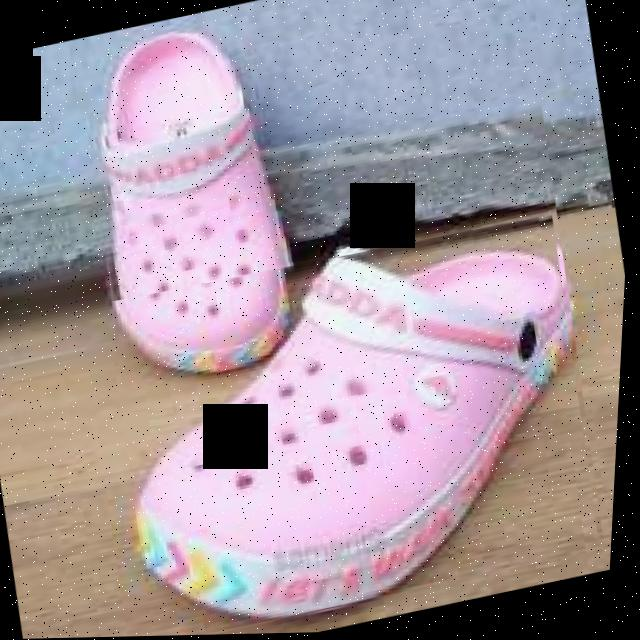shoe: (44, 0, 635, 639), (93, 209, 620, 638), (73, 23, 305, 393)
